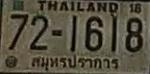1: (110, 15, 117, 51), (70, 15, 76, 51)
2: (29, 13, 47, 49)
6: (84, 16, 102, 50)
7: (8, 13, 28, 49)
8: (125, 17, 142, 52)
SPK: (30, 54, 118, 72)
